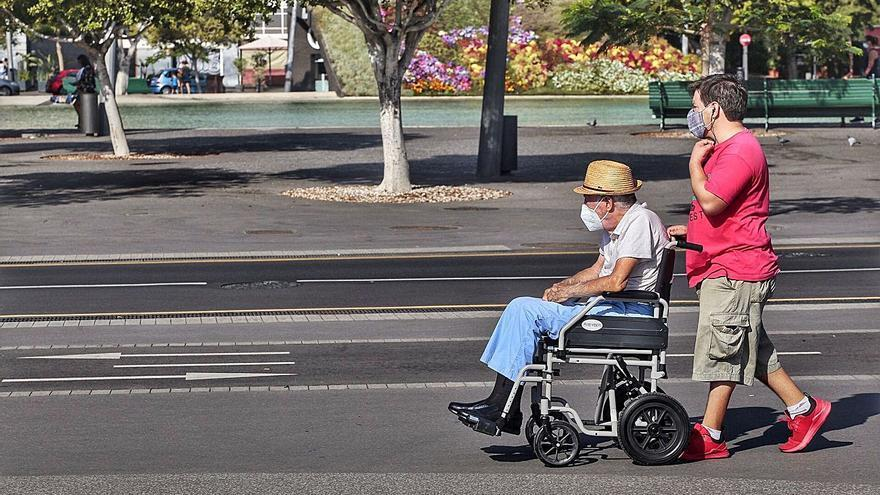push_wheelchair: (666, 75, 831, 460)
wheelchair: (448, 159, 704, 467)
